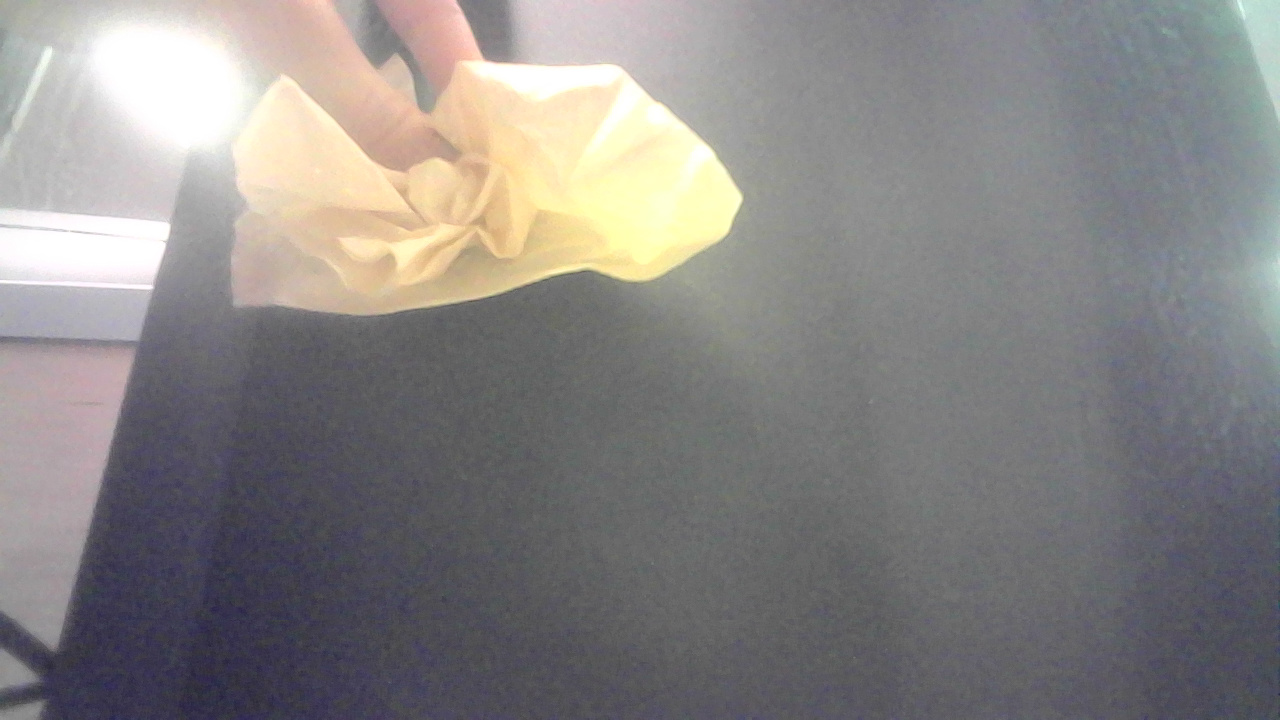Paper_Recycling: (140, 43, 762, 338)
